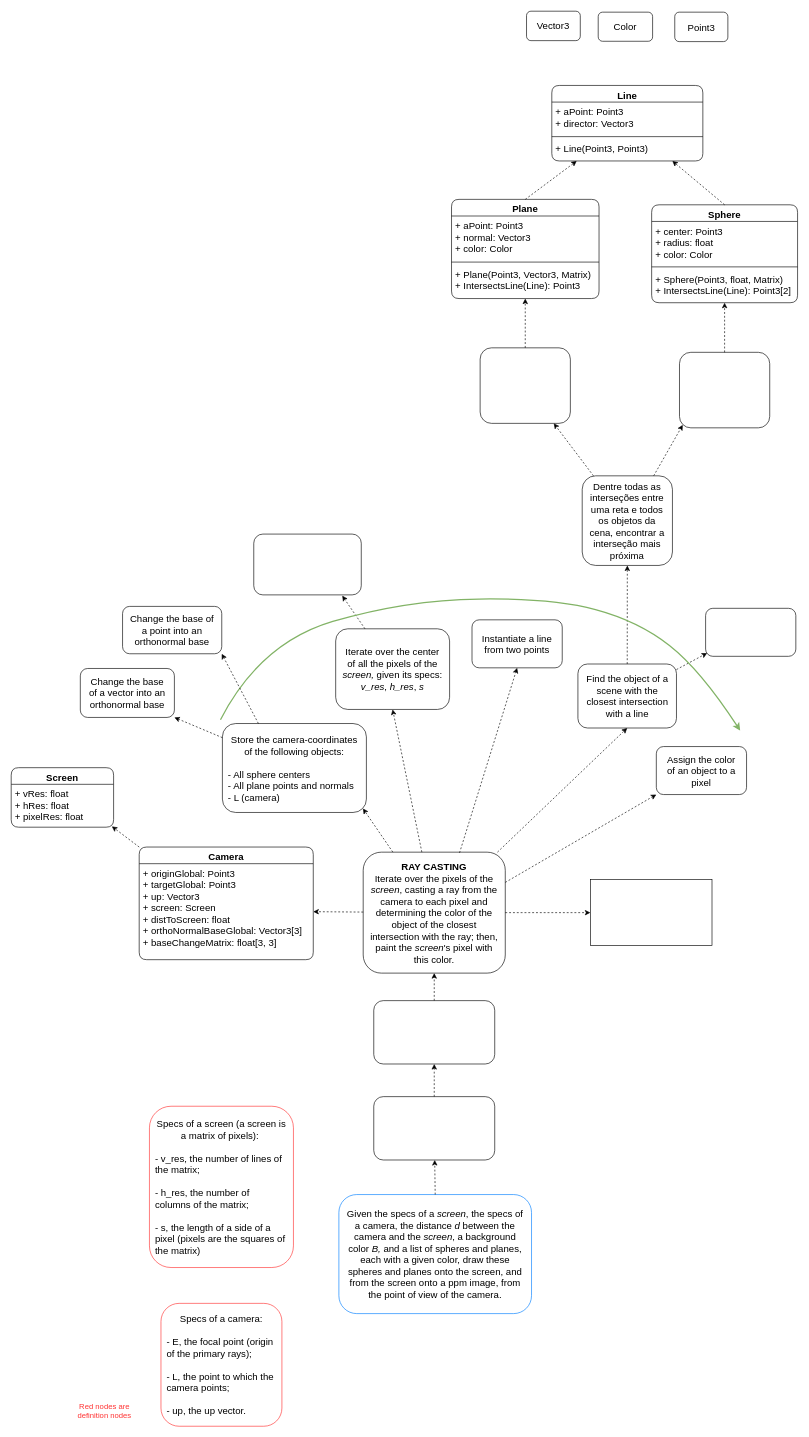
Some shapes in this 809 by 1437 pixel diagram are drawn without their labels. The shapes that lost their labels are listed below. From the top down, each one's centre as x and y in pixels, then its label:
(524,385): Encontrar todas as interseções entre uma linha e todos os planos da cena
(724,390): Encontrar todas as interseções entre uma linha e todos as esferas da cena
(307,564): Find the camera coordinates of the center of pixel (i, j) of the screen
(750,632): Global variable: background color
(651,912): <<Interface>> Scene + Spheres: Sphere[ ] + Planes: Plane[ ]
(434,1032): Paint the screen
(434,1128): Create a ppm image from from the painted screen
